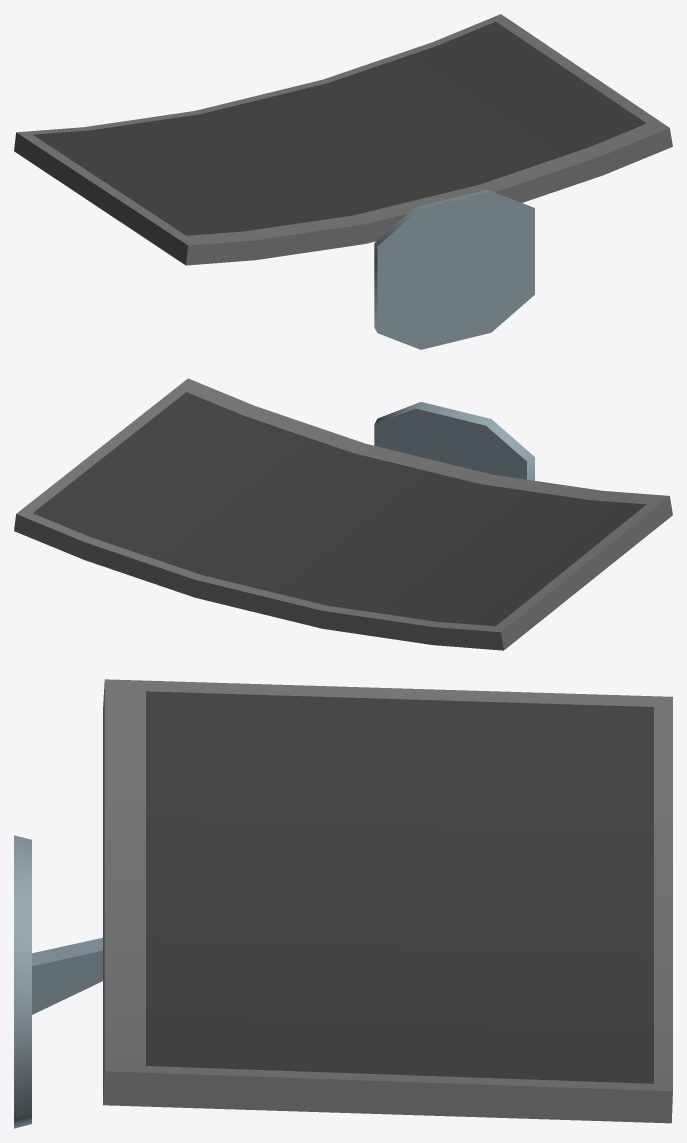
The model's file is monitor.glb.
The picture shows the model from 3 angles, top to bottom: view 1: azimuth 30°, elevation 25°; view 2: azimuth 150°, elevation 25°; view 3: azimuth 270°, elevation 25°; orthographic projection. The views are drawn at different scales.
Parts seen in each view (by area): view 1: electronics_024; view 2: electronics_024; view 3: electronics_024.
Boxes of the visible parts, <box> form: electronics_024: <box>14,14,672,349</box>; electronics_024: <box>14,378,672,650</box>; electronics_024: <box>14,679,672,1128</box>.
Bounding box in the file's own units: 0.6744 × 0.1862 × 0.4712.
Materials: 1 (1 with a texture image).
